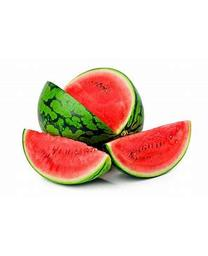watermelon: (37, 64, 145, 168), (19, 126, 113, 186), (106, 119, 193, 180)
